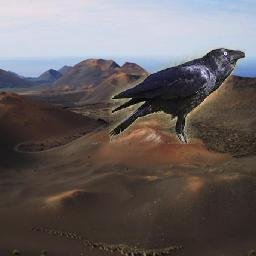Crow: (109, 48, 245, 145)
